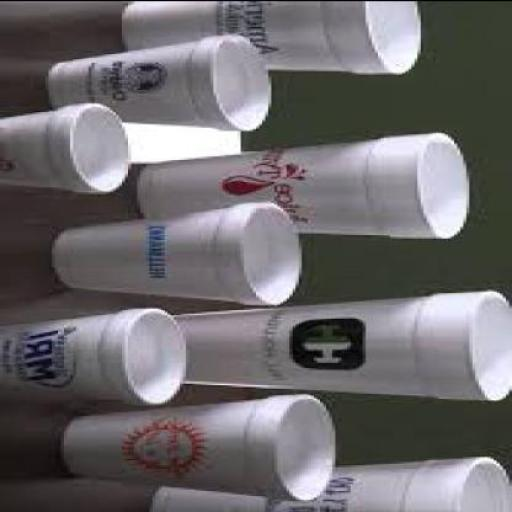paper: (176, 288, 511, 404), (137, 133, 476, 241), (61, 393, 341, 502), (52, 201, 305, 310), (126, 2, 424, 77), (48, 36, 278, 133), (149, 455, 512, 511), (2, 309, 192, 406), (3, 104, 134, 195)
